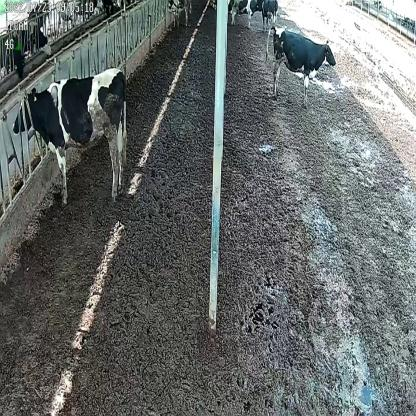cow: (12, 65, 128, 205), (265, 26, 337, 106), (230, 0, 262, 28), (261, 0, 277, 28)
